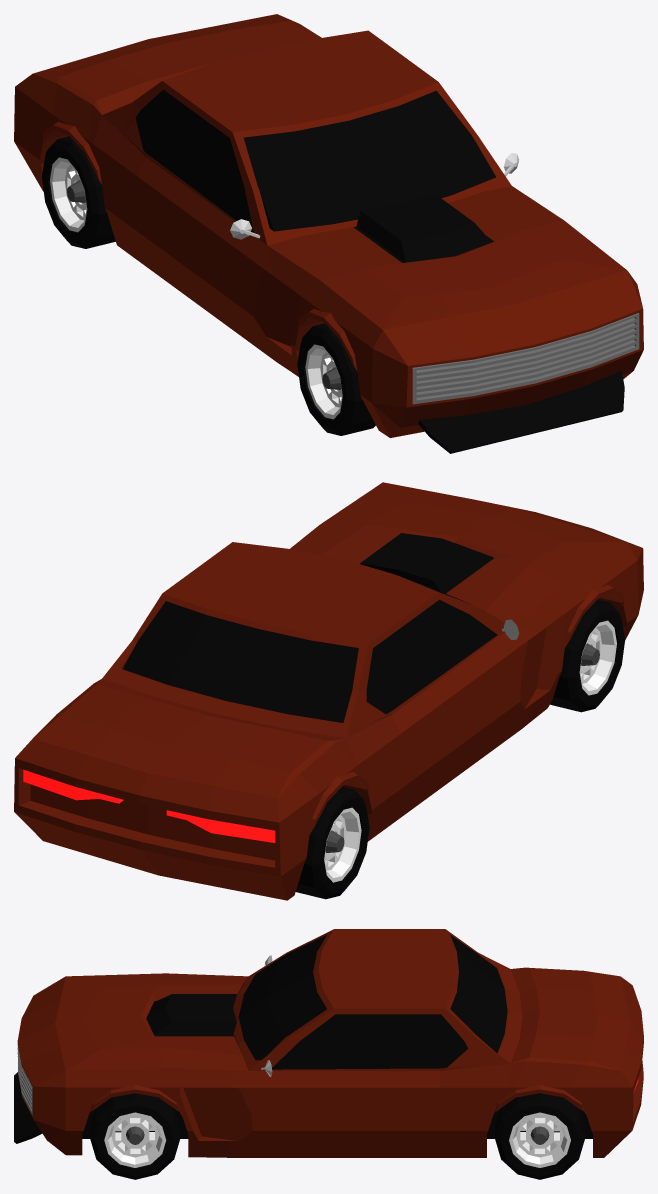
Rendered from car.glb.
3 views of the same model, one above another, from view 1: azimuth 30°, elevation 25°; view 2: azimuth 150°, elevation 25°; view 3: azimuth 270°, elevation 25° (orthographic). The views are drawn at different scales.
Visible parts, largest first — view 1: Body, Glass, Dark, Grill, Cube.012, Cube.015, Cube.011, Cube.016, Cube.006; view 2: Body, Glass, Dark, Cube.012, Cube.015, Cube.020, Cube.011, Cube.016; view 3: Body, Glass, Dark, Cube.008, Cube.019, Cube.009, Cube.018, Cube.007, Grill.
Part boxes in pixels (box(x1,y1,x2,y2)): Body: box(14, 14, 643, 437); Glass: box(135, 89, 495, 232); Dark: box(354, 193, 624, 453); Grill: box(412, 313, 639, 404); Cube.012: box(297, 323, 375, 435); Cube.015: box(42, 136, 115, 248); Cube.011: box(305, 344, 342, 419); Cube.016: box(50, 157, 87, 232); Cube.006: box(230, 153, 519, 239); Body: box(14, 482, 643, 900); Glass: box(123, 577, 497, 722); Dark: box(360, 533, 493, 593); Cube.012: box(550, 599, 624, 712); Cube.015: box(295, 786, 369, 899); Cube.020: box(23, 769, 275, 842); Cube.011: box(579, 620, 616, 695); Cube.016: box(324, 807, 361, 882); Body: box(17, 929, 643, 1157); Glass: box(238, 935, 507, 1069); Dark: box(14, 994, 237, 1143); Cube.008: box(90, 1093, 180, 1179); Cube.019: box(495, 1093, 584, 1179); Cube.009: box(104, 1112, 166, 1167); Cube.018: box(509, 1112, 570, 1167); Cube.007: box(82, 1109, 592, 1138); Grill: box(17, 1044, 32, 1115).
Bounding box in the file's own units: 5.51 × 3.65 × 13.11.
